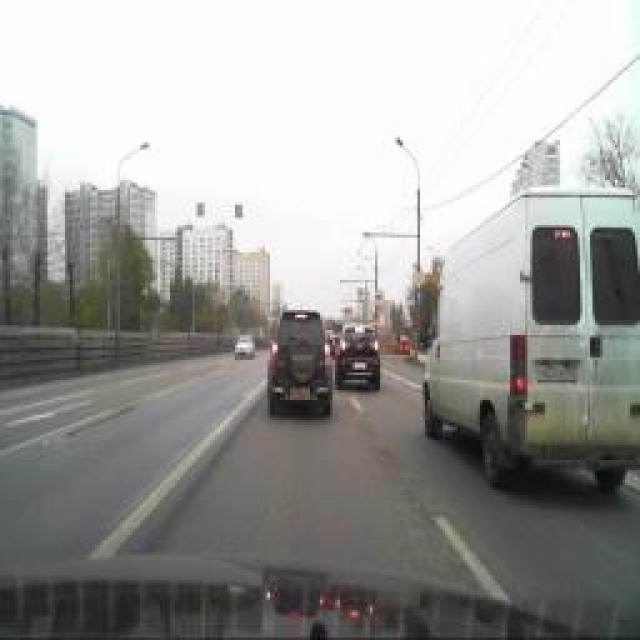sign: (412, 271, 422, 289)
